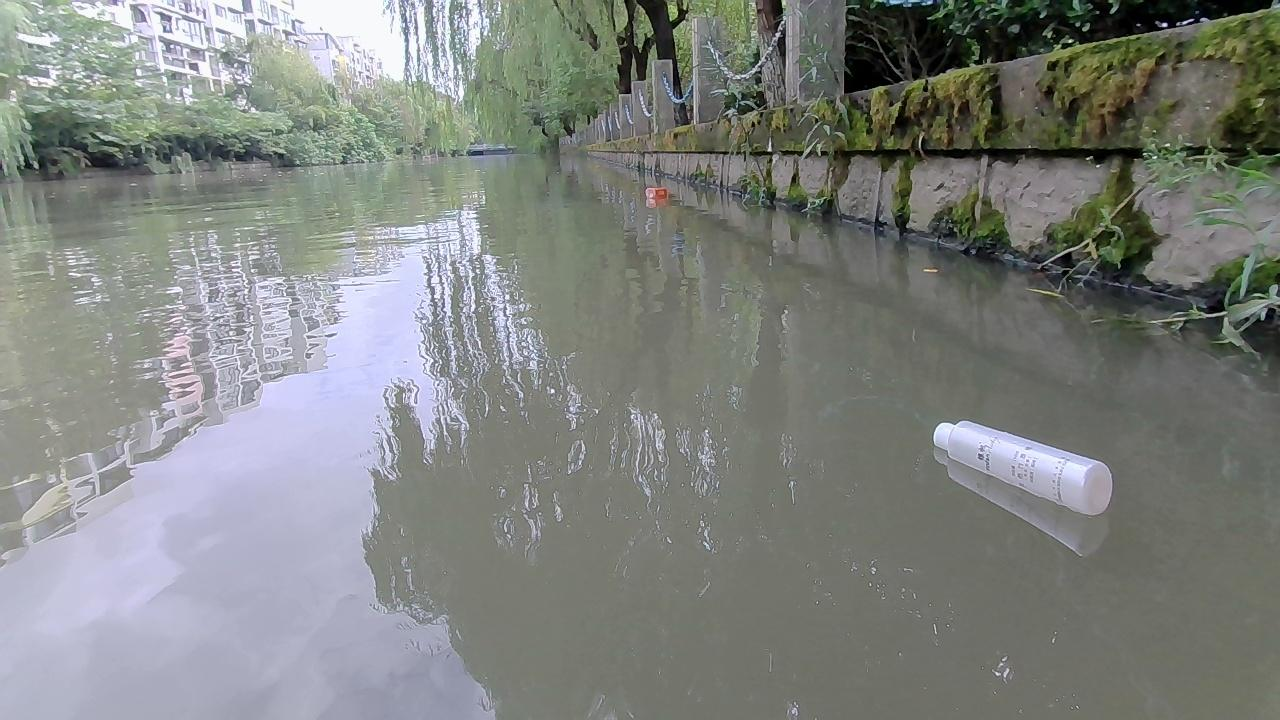bottle: (933, 418, 1112, 513), (645, 185, 668, 196)
